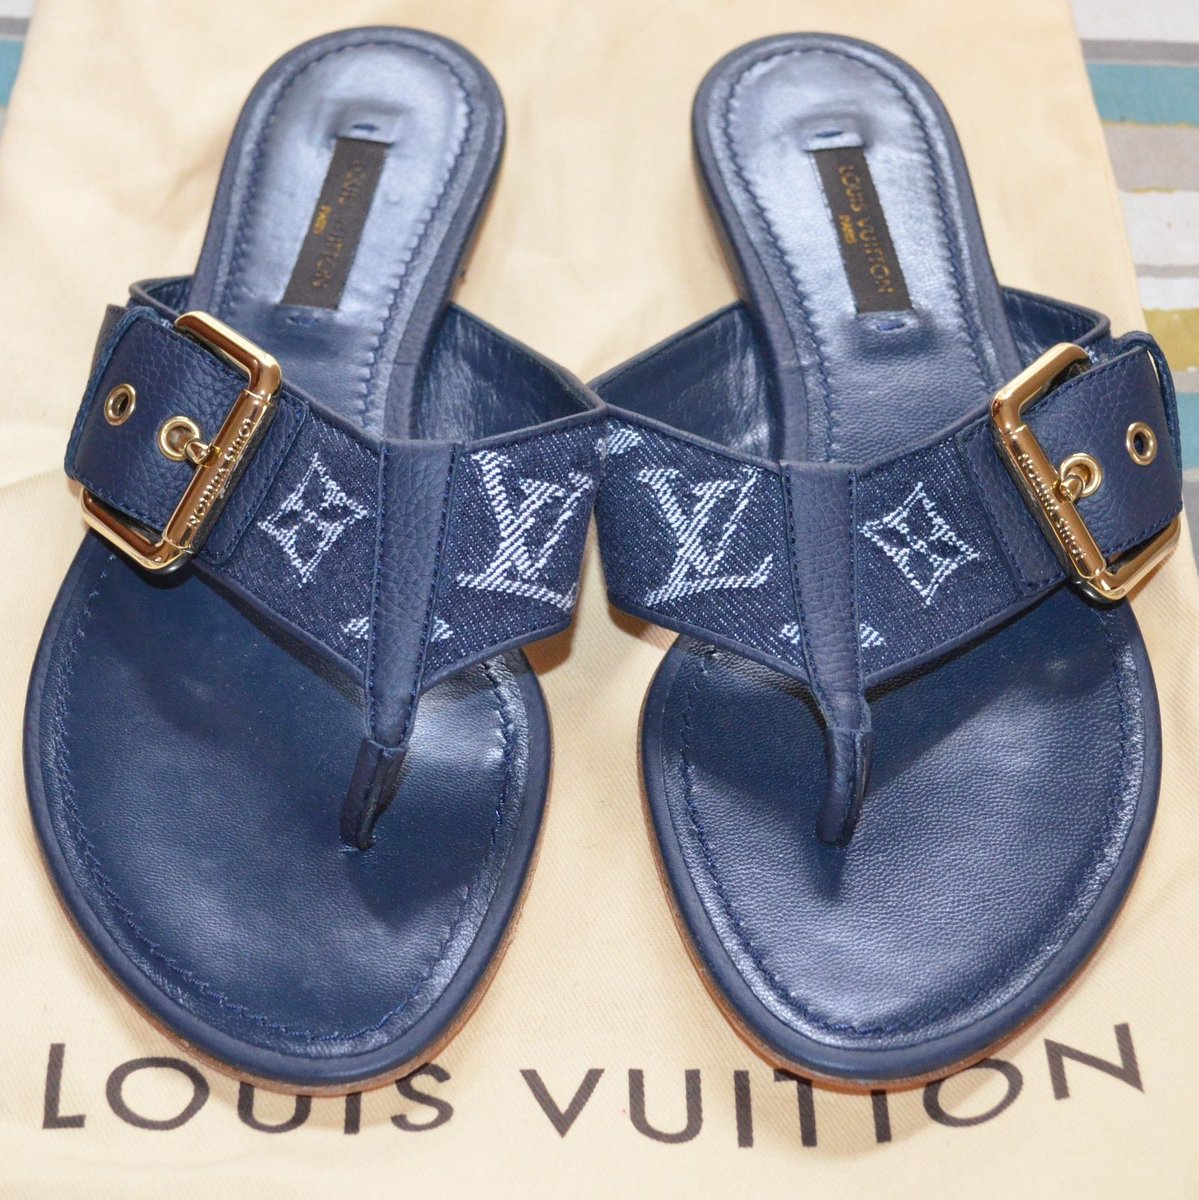LOUIS-VUITTON: (464, 442, 582, 612)
